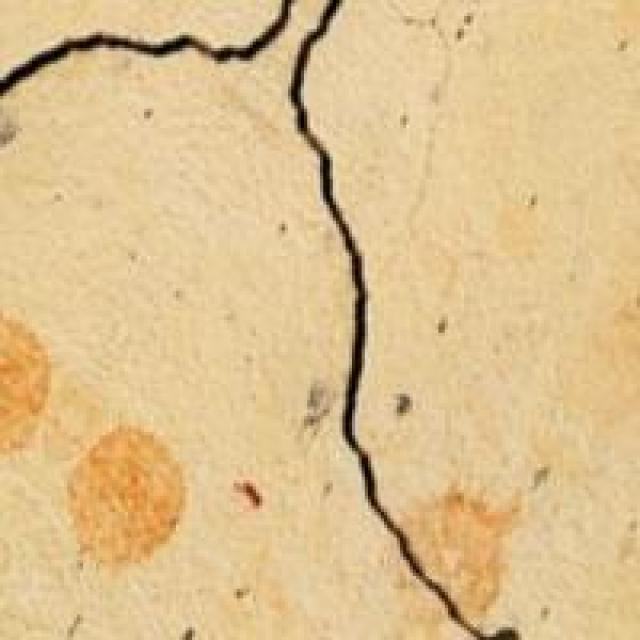Crack: (0, 0, 486, 630)
